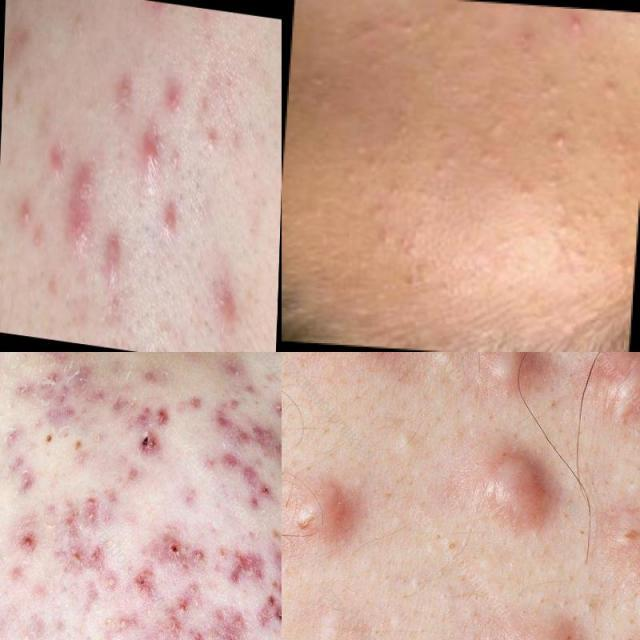Pimples: (434, 437, 586, 564), (36, 472, 117, 566), (285, 464, 363, 558), (571, 352, 640, 445), (207, 456, 282, 522), (34, 362, 98, 432), (198, 409, 282, 461), (216, 529, 282, 592), (132, 397, 186, 468), (66, 153, 97, 274), (474, 352, 538, 404), (142, 122, 172, 172), (104, 226, 132, 278), (48, 130, 72, 188), (18, 170, 40, 233), (168, 56, 186, 121), (163, 195, 180, 253)
